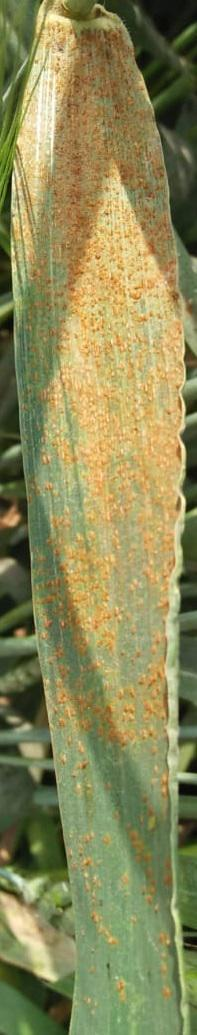Wheat: (32, 334, 174, 558), (16, 160, 157, 316), (54, 570, 173, 731), (30, 38, 122, 148)
